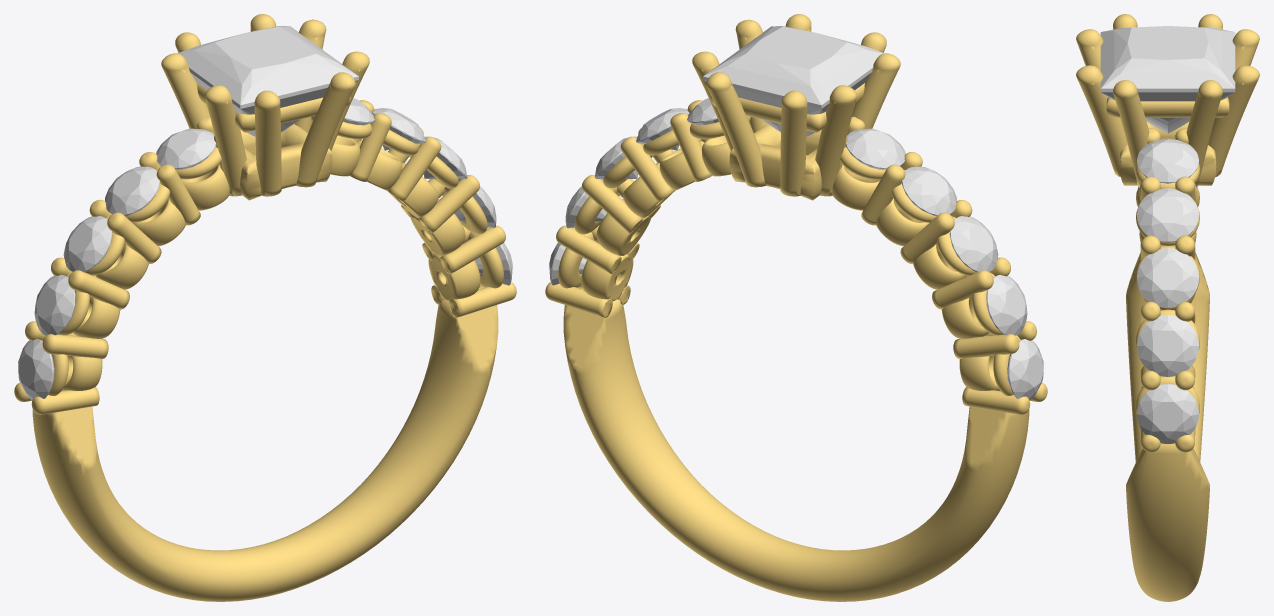
File: diamond-princess-yellowgold-8prong-taperedband-11stone.glb
3 views of the same model, side by side, from view 1: azimuth 30°, elevation 25°; view 2: azimuth 150°, elevation 25°; view 3: azimuth 270°, elevation 25° (orthographic).
Visible parts, largest first — view 1: metal, stone, side.002, side.003, side.001, side.004, side, side.006; view 2: metal, stone, side.002, side.003, side.001, side.004, side, side.006; view 3: metal, stone, side.008, side.007, side.009, side.006, side.005.
Part boxes in pixels (x1,y1,x2,y2): metal: (14,14,516,601); stone: (177,26,358,136); side.002: (63,216,112,272); side.003: (105,166,159,215); side.001: (34,274,75,335); side.004: (156,128,216,169); side: (18,339,54,399); side.006: (372,108,425,150); metal: (545,14,1047,601); stone: (703,26,884,136); side.002: (949,216,998,272); side.003: (902,166,956,215); side.001: (986,274,1027,335); side.004: (845,128,905,169); side: (1007,339,1043,400); side.006: (636,108,689,150); metal: (1076,14,1259,601); stone: (1100,26,1235,133); side.008: (1137,315,1198,376); side.007: (1137,248,1198,308); side.009: (1137,383,1198,443); side.006: (1137,188,1198,242); side.005: (1137,138,1198,183).
Bounding box in the file's own units: 22.05 × 23.85 × 7.42.
